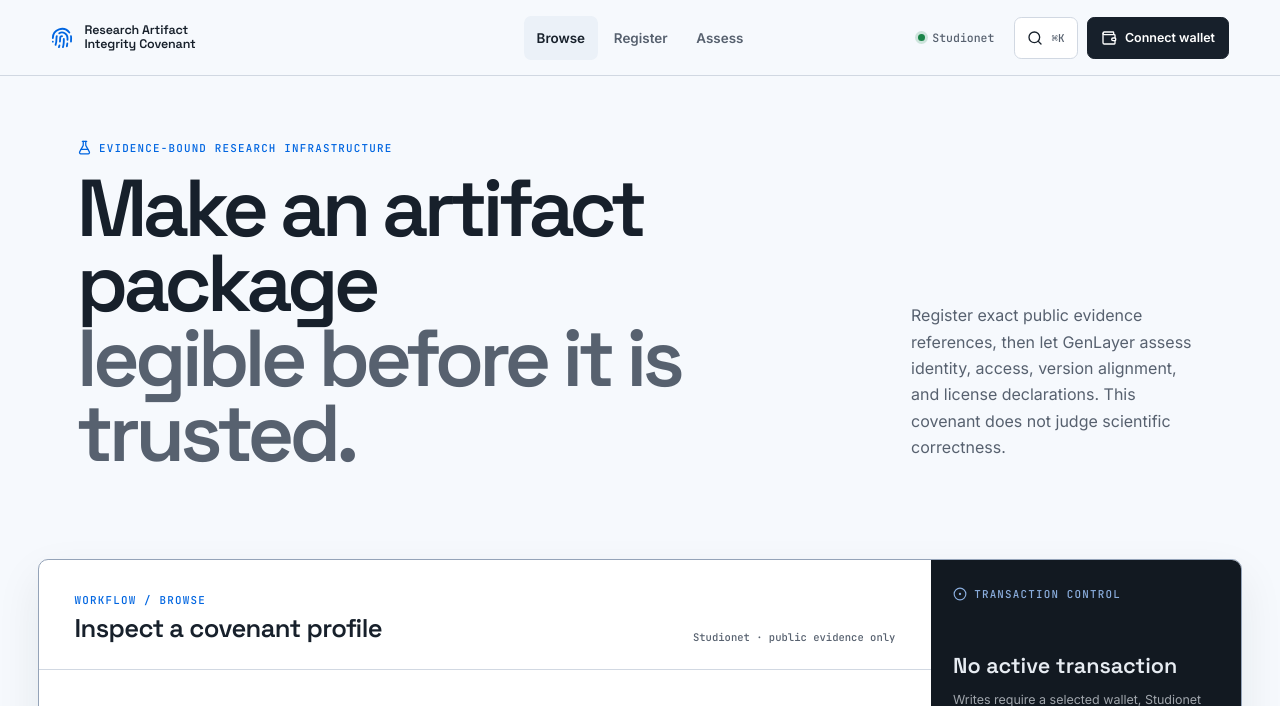
Test case: restart-safe draft workflow › shows authoritative Browse results after recovering activate_profile
The width and height of the screenshot is (1280, 706).
Click the button "register" at (641, 38), box top-left (601, 16), bottom-right (680, 60)
(page scrolled)
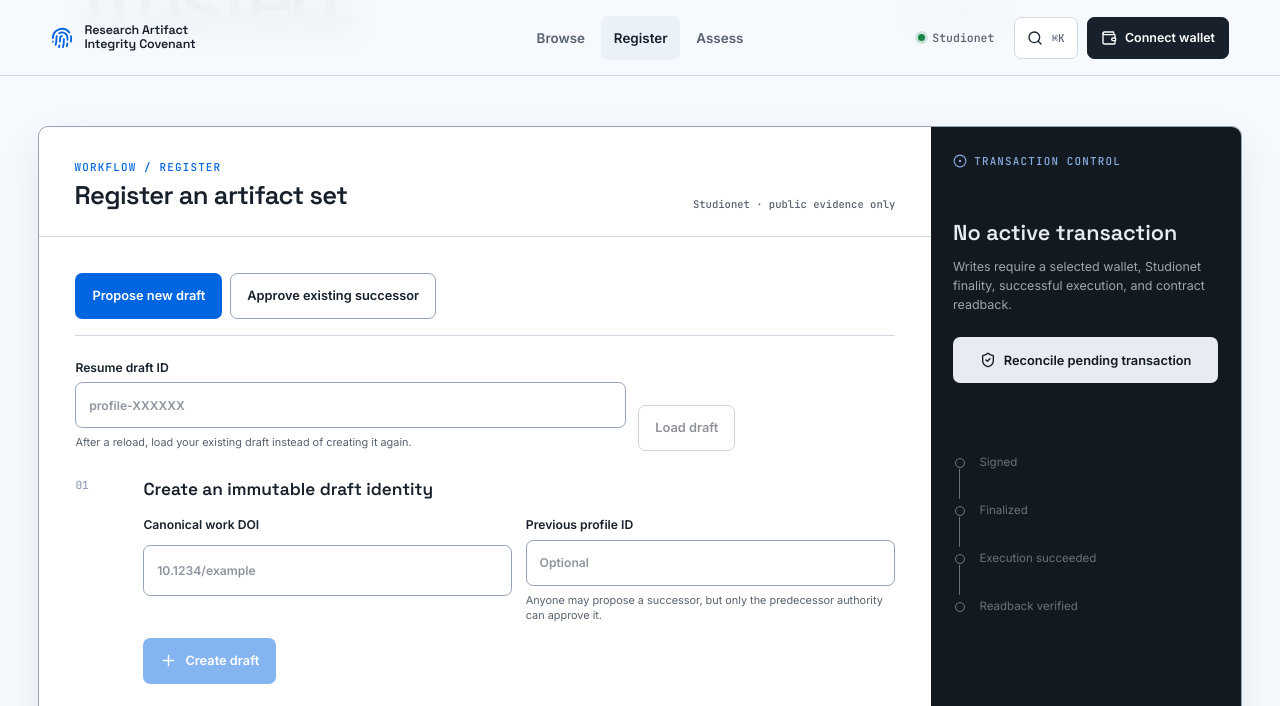
Click the button "Reconcile pending transaction" at (1086, 360), box top-left (953, 337), bottom-right (1218, 383)
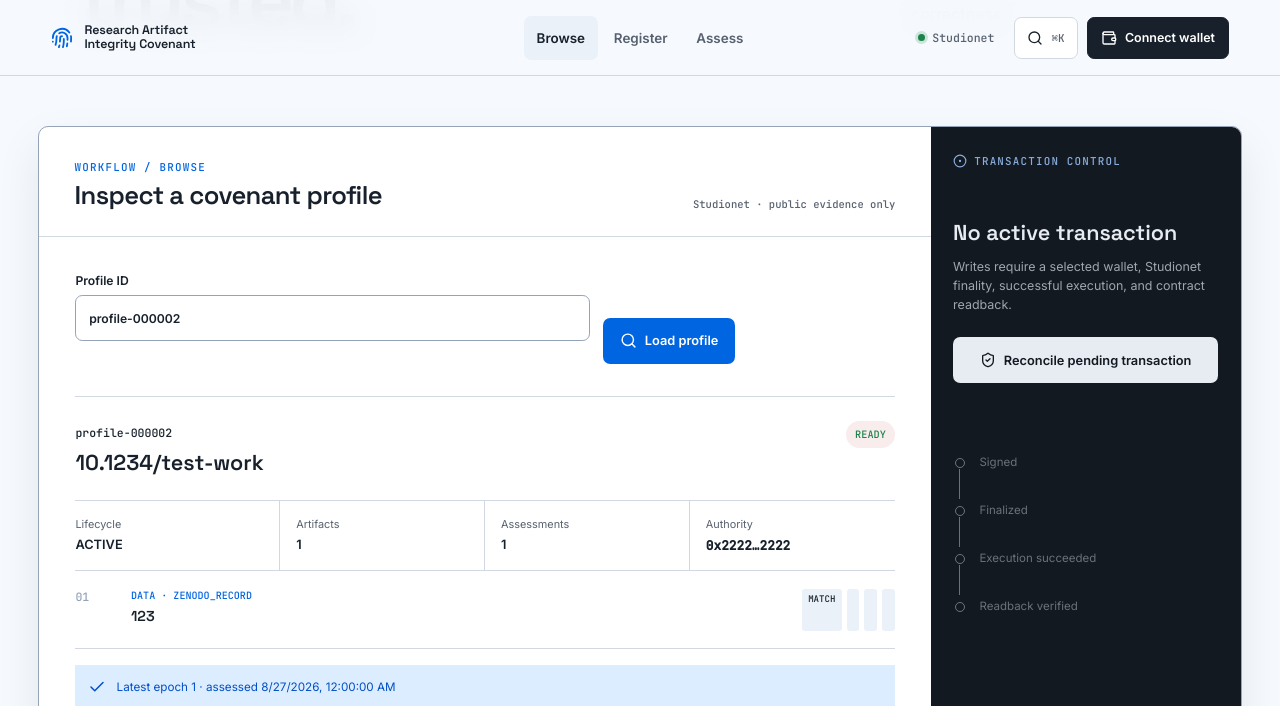
expect the heading "10.1234/test-work" is shown: met, box top-left (75, 449), bottom-right (264, 476)
expect the text "ACTIVE" is shown: met, box top-left (75, 537), bottom-right (123, 552)
expect the text "READY" is shown: met, box top-left (846, 420), bottom-right (895, 448)
